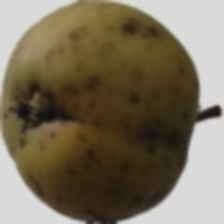apple: (15, 25, 194, 224)
